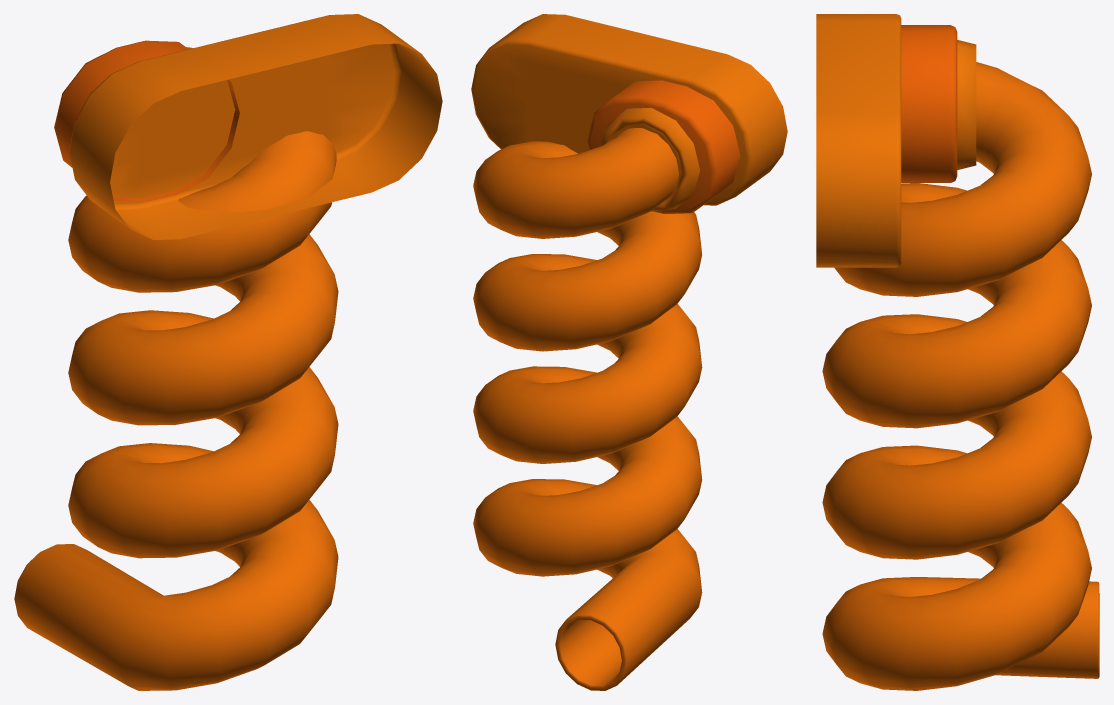
Rendered from Pipe.fbx.
The picture shows the model from 3 angles, left to right: view 1: azimuth 30°, elevation 25°; view 2: azimuth 150°, elevation 25°; view 3: azimuth 270°, elevation 25°; orthographic projection. The views are drawn at different scales.
Parts seen in each view (by area): view 1: Slide; view 2: Slide; view 3: Slide.
Boxes of the visible parts, box(x1,y1,x2,y2) form: Slide: box(14, 14, 442, 690); Slide: box(471, 14, 787, 690); Slide: box(816, 14, 1099, 690).
Bounding box in the file's own units: 45.26 × 84.64 × 33.78.
